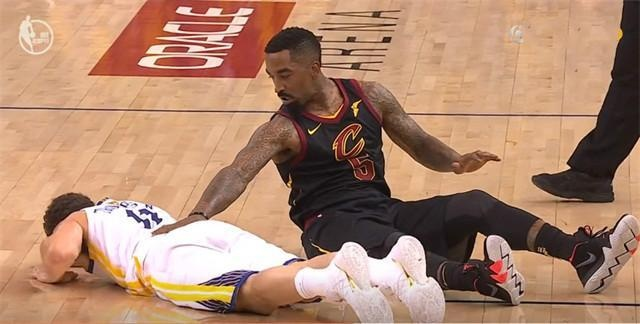falling: (23, 187, 423, 316)
